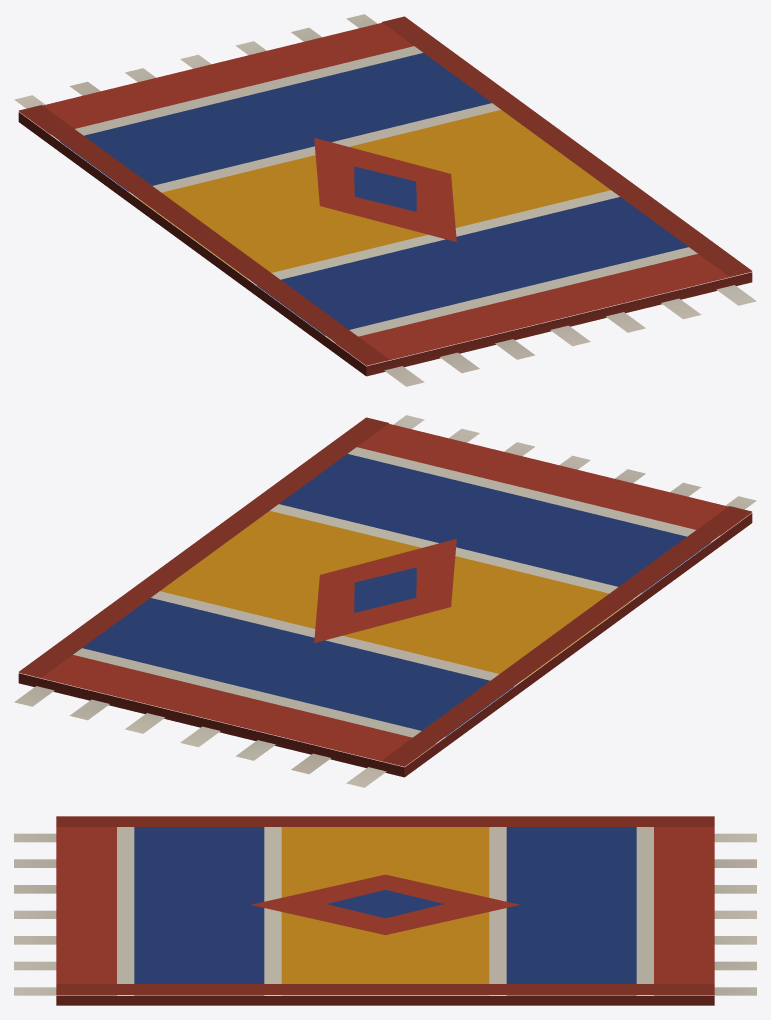
Rendered from tapis.glb.
3 views of the same model, one above another, from view 1: azimuth 30°, elevation 25°; view 2: azimuth 150°, elevation 25°; view 3: azimuth 270°, elevation 25° (orthographic). The views are drawn at different scales.
Parts seen in each view (by area): view 1: tapis; view 2: tapis; view 3: tapis.
Part boxes in pixels (x1,y1,x2,y2): tapis: [14, 14, 756, 386]; tapis: [14, 415, 756, 787]; tapis: [14, 816, 756, 1005].
Bounding box in the file's own units: 0.5 × 0.016 × 0.88.
